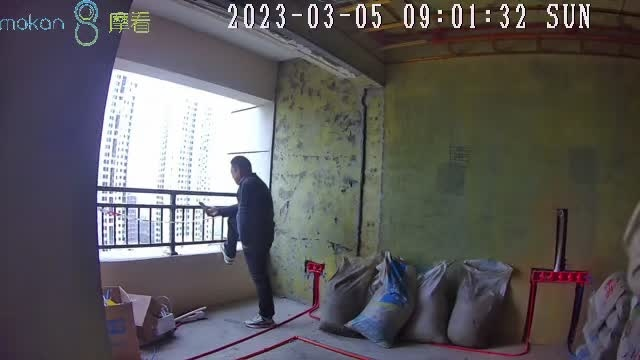people: (202, 155, 279, 327)
window: (98, 64, 259, 252)
